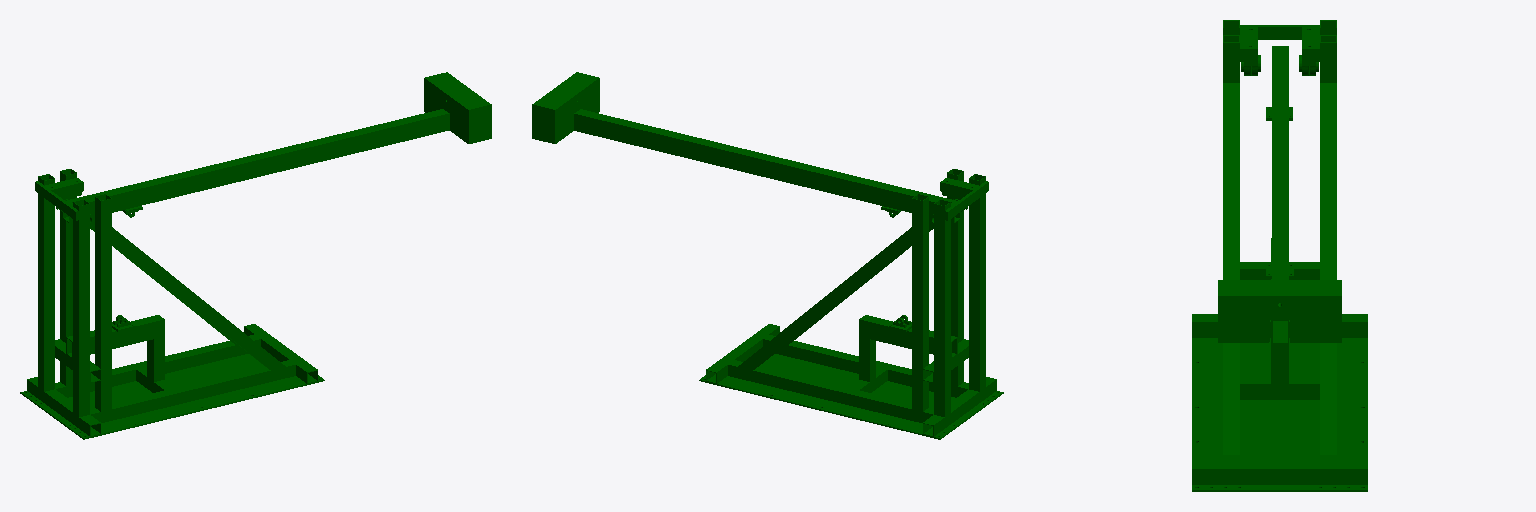
URDF robot description (crane):
<?xml version="1.0"?>
<robot name="crane">

  <material name="green">
    <color rgba="0 0.4 0 1"/>
  </material>


  <link name="base_link">
    <visual>
      <origin rpy="0.0 0 0" xyz="0 0 0.57207"/>
      <geometry>
        <mesh filename="package://crane_visualization/meshes/frame_URDF.STL"/>
      </geometry>
      <material name="green"/>
    </visual>
  </link>

  <link name="crane_boom">
    <visual>
      <origin rpy="0 0 0" xyz="3.10836 0 0.06343"/>
      <geometry>
        <mesh filename="package://crane_visualization/meshes/boom_URDF.STL"/>
      </geometry>
      <material name="green"/>
    </visual>
  </link>
  
  <joint name="base_to_crane_boom" type="revolute">
    <axis xyz="0 1 0"/>
    <limit effort="1000.0" lower="0.3267" upper="-0.6948" velocity="0.5"/>
    <origin rpy="0 0 0"  xyz="-0.56876 0 1.752"/>
    <parent link="base_link"/>
    <child link="crane_boom"/>
  </joint>

  <link name="toolpoint">
    <visual>
      <geometry>
        <box size="0 0 0"/>
      </geometry>
      <origin rpy="0 0 0" xyz="0 0 0"/>
    </visual>
  </link>

  <joint name="crane_boom_to_toolpoint" type="fixed">
    <parent link="crane_boom"/>
    <child link="toolpoint"/>
    <origin rpy="0 0 0"  xyz="3.6 0 0"/>
  </joint>

</robot>

--- Facts derived from the render (not from the file) ---
Views: 3 orthographic renders of the robot side by side, from view 1: azimuth 30°, elevation 25°; view 2: azimuth 150°, elevation 25°; view 3: azimuth 270°, elevation 25°.
Robot: crane — 3 links, 2 joints (1 revolute, 1 fixed); root link base_link; default pose: every joint at zero.
Visible links, largest first — view 1: base_link, crane_boom; view 2: base_link, crane_boom; view 3: base_link, crane_boom.
Boxes of the visible links, x1,y1,x2,y2 form: base_link: [20, 169, 324, 439]; crane_boom: [63, 72, 491, 222]; base_link: [699, 169, 1003, 439]; crane_boom: [532, 72, 960, 222]; base_link: [1192, 20, 1367, 491]; crane_boom: [1218, 46, 1341, 343].
Bounding box of the posed robot: 3.81 × 1 × 1.98 m (x, y, z).
2 mesh visuals loaded from 2 distinct referenced files (2 binary STL).